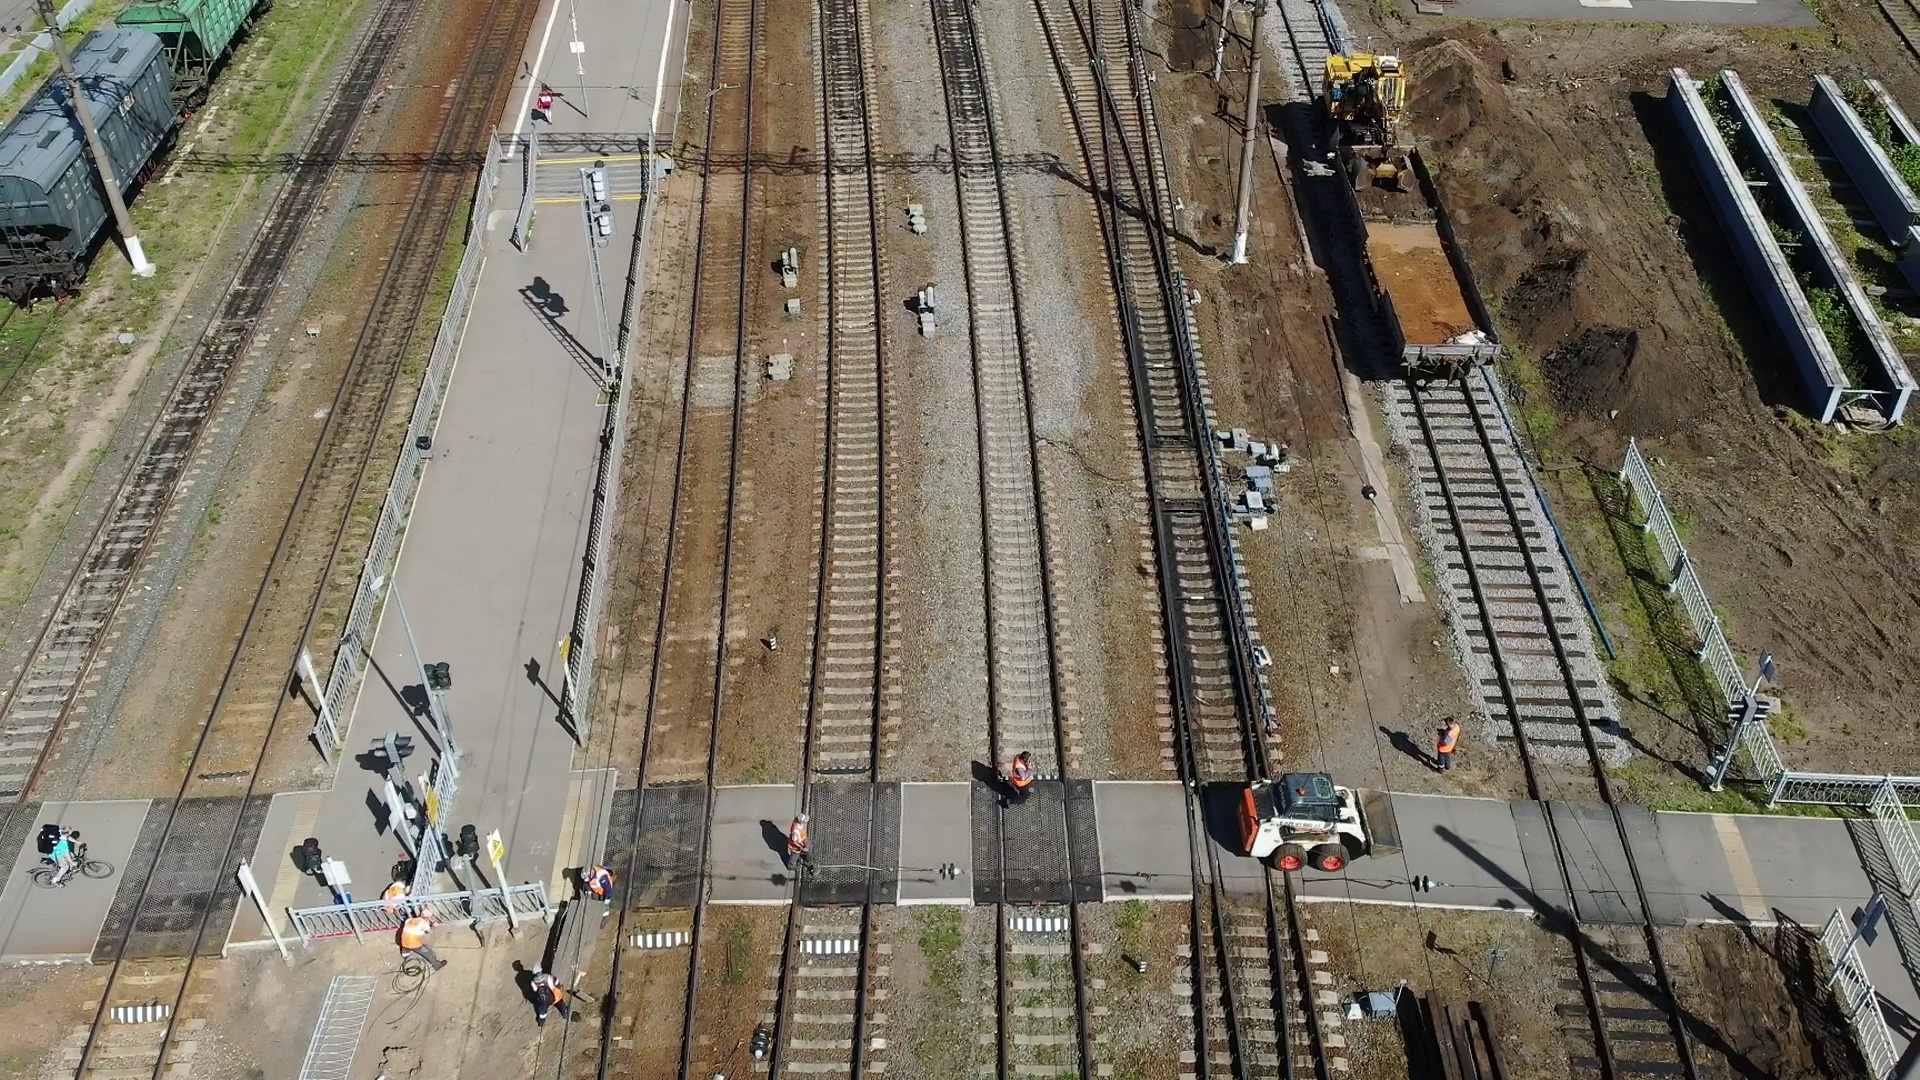kjtv: (1315, 48, 1411, 151)
